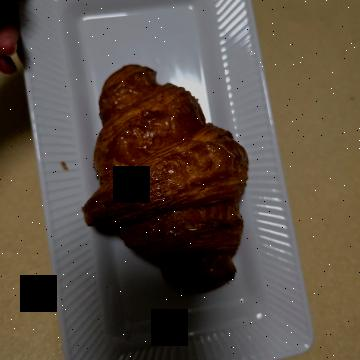croissant: (59, 108, 315, 296)
